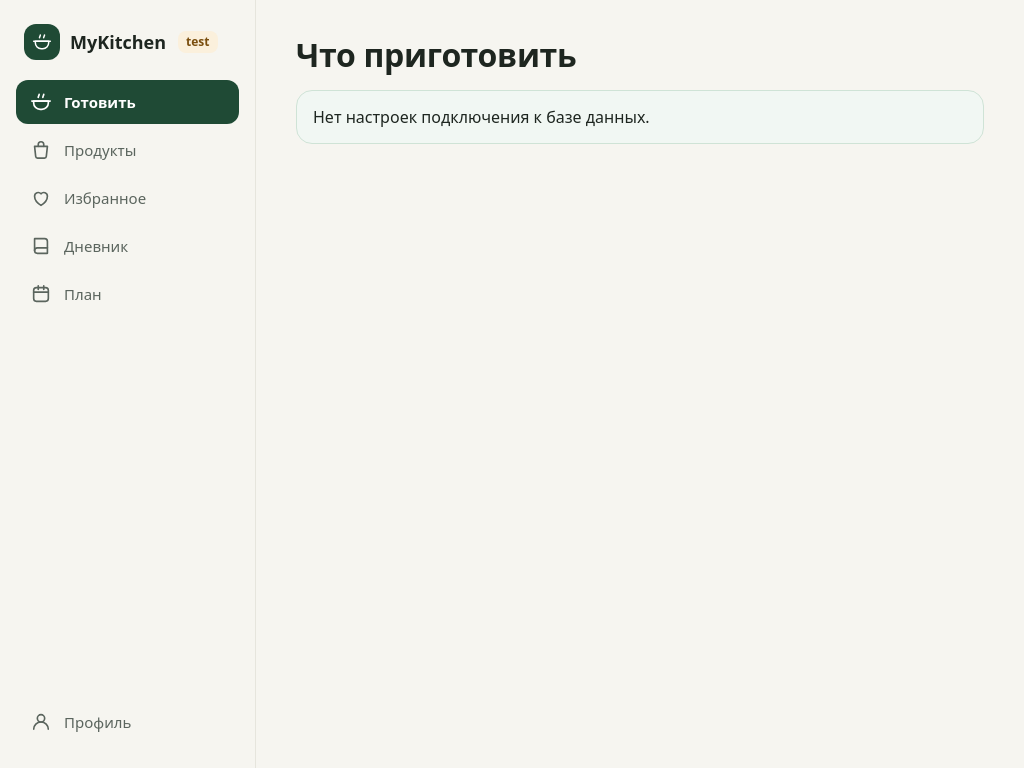
Test case: маршруты › навигация открывает каждый раздел
Click the link "Готовить" at (128, 102), box [16, 80, 239, 124]
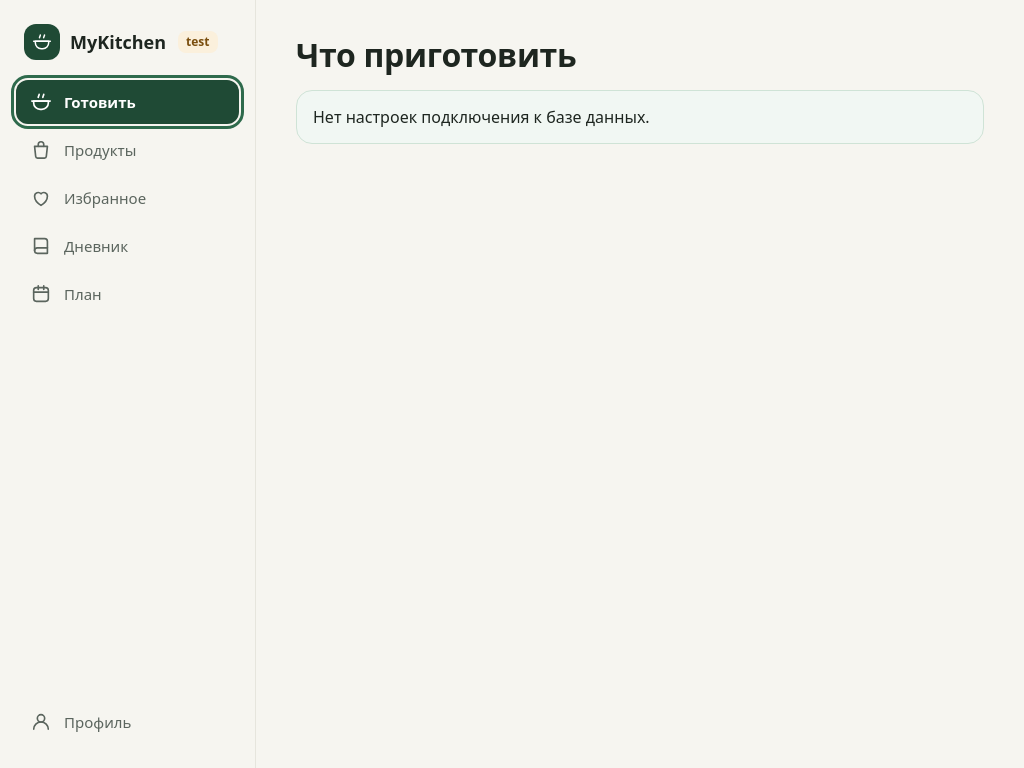
Expected: the heading "Что приготовить" is shown, [296, 33, 576, 76]
Click the link "Продукты" at (83, 150), box [30, 139, 136, 161]
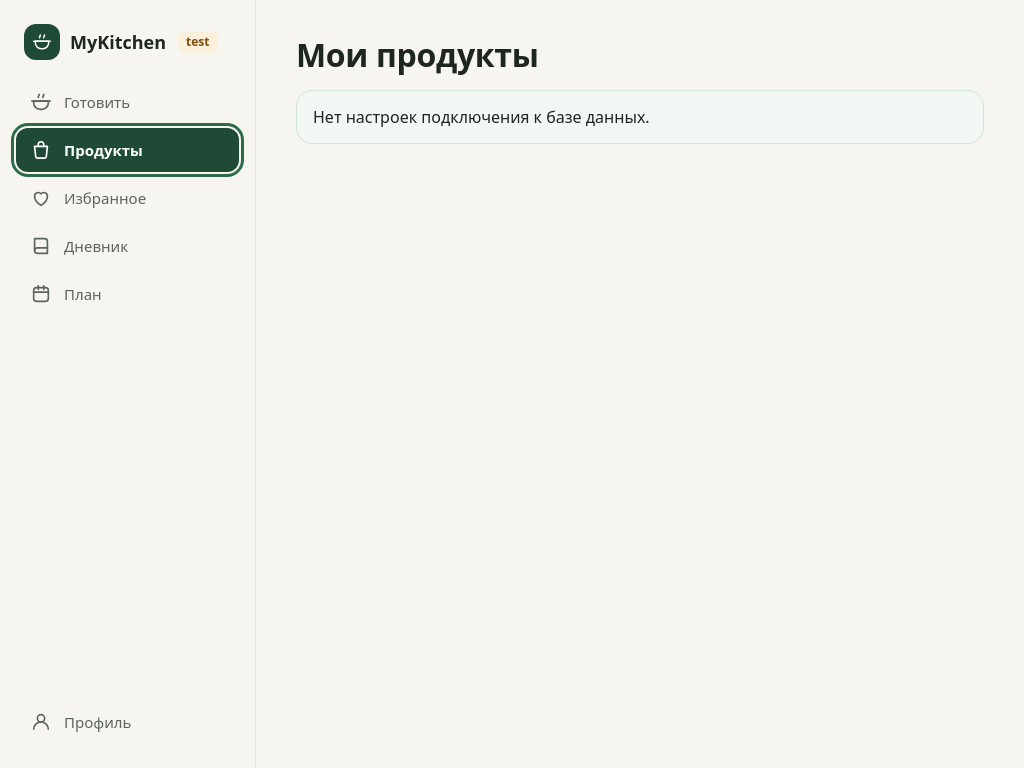
Expected: the heading "Мои продукты" is shown, [296, 33, 539, 76]
Click the link "Избранное" at (88, 198), box [30, 187, 146, 209]
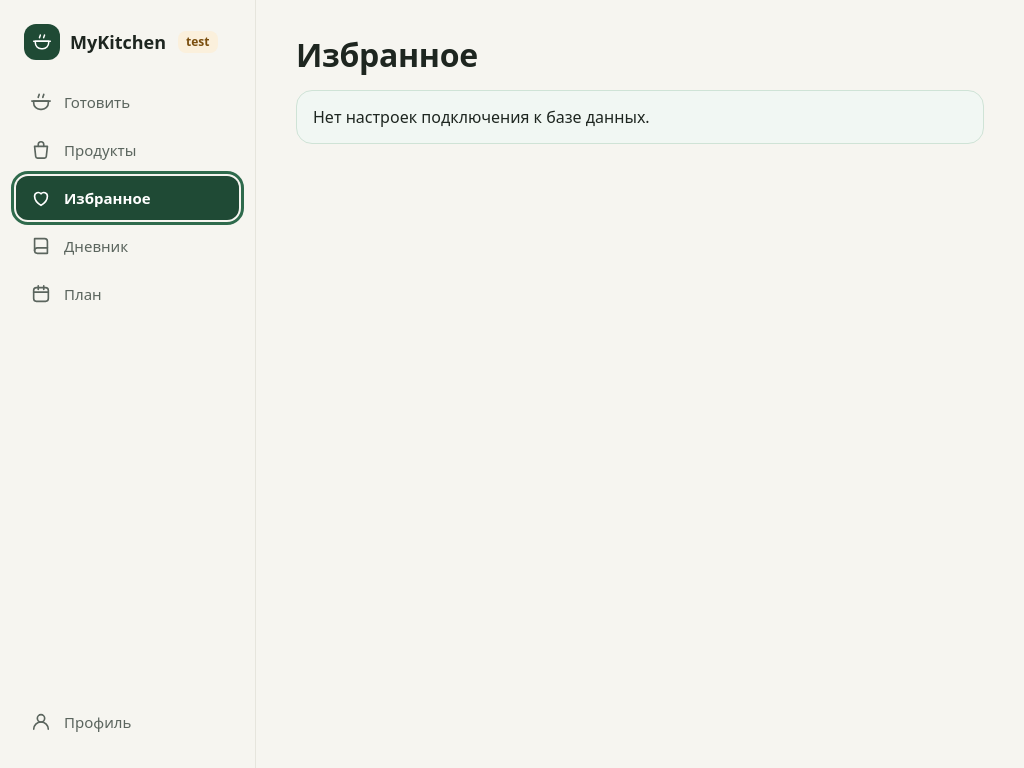
Expected: the heading "Избранное" is shown, [296, 33, 478, 76]
Click the link "Дневник" at (79, 246), box [30, 235, 128, 257]
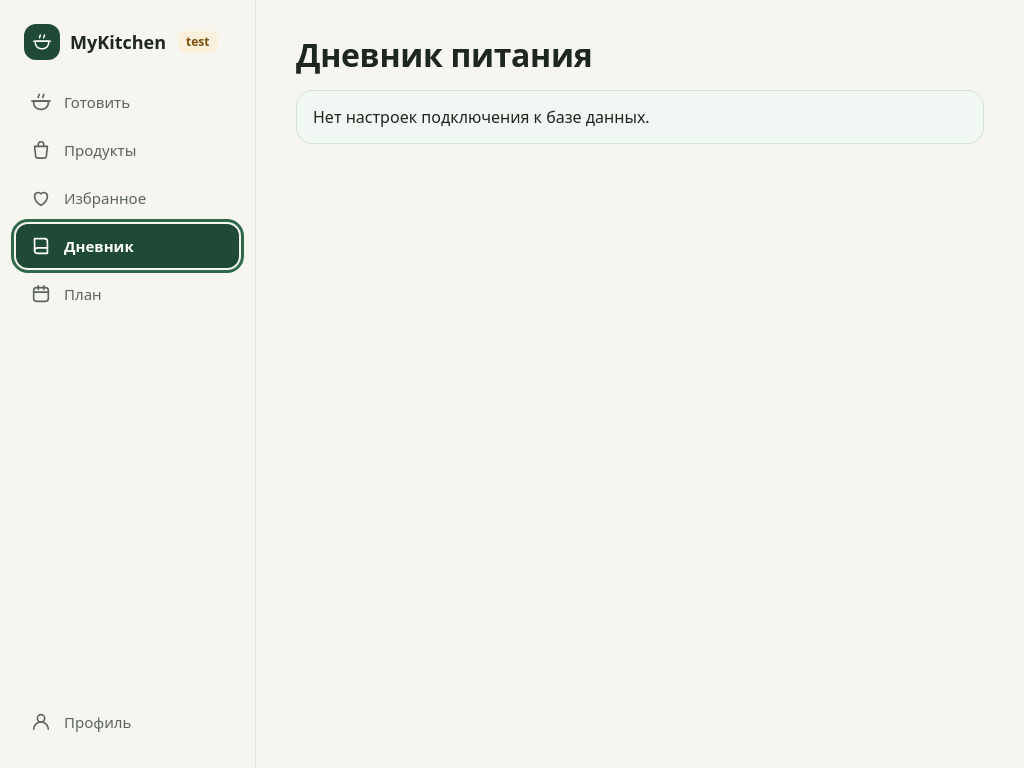
Expected: the heading "Дневник питания" is shown, [296, 33, 592, 76]
Click the link "План" at (66, 294), box [30, 283, 102, 305]
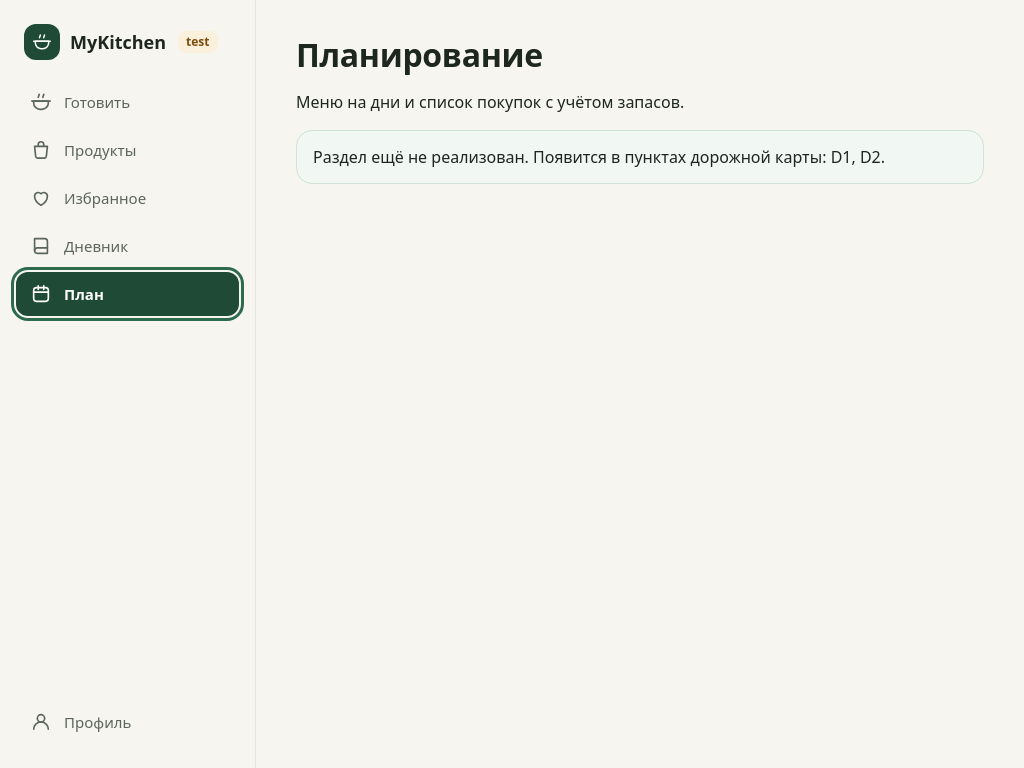
Expected: the heading "Планирование" is shown, [296, 33, 543, 76]
Click the link "Профиль" at (81, 722), box [30, 711, 131, 733]
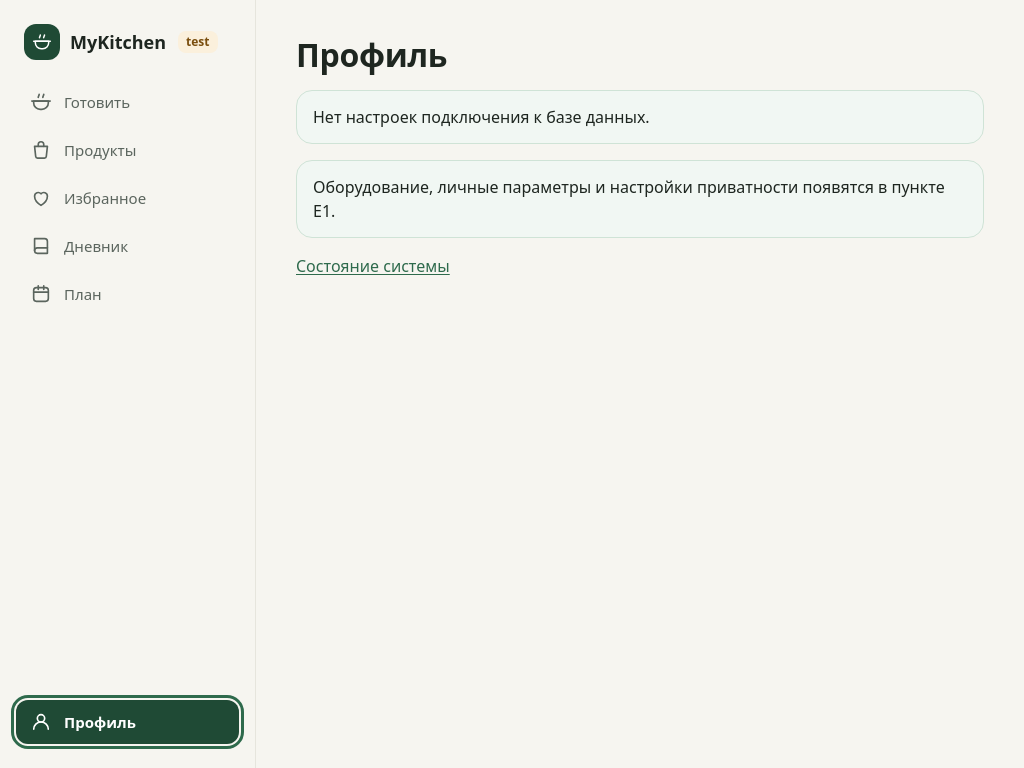
Expected: the heading "Профиль" is shown, [296, 33, 447, 76]
